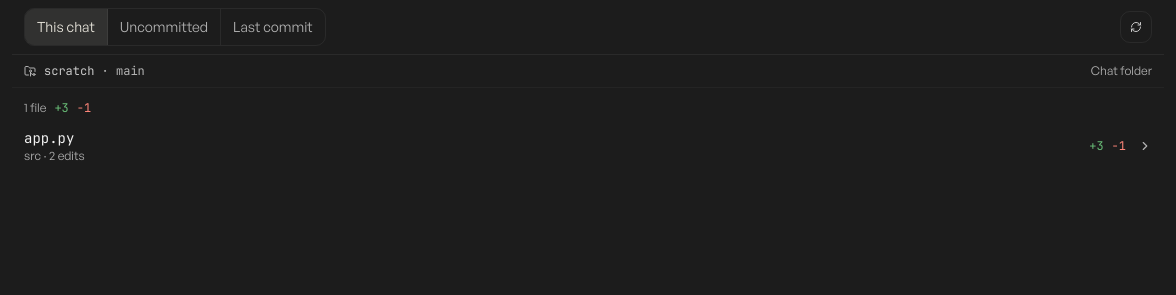
Test case: DiffPanel › tapping a file opens its combined diff; back returns to the list
Click the button with test id "chat-change-row".
click(49, 138)  # box [12,120,1164,172]
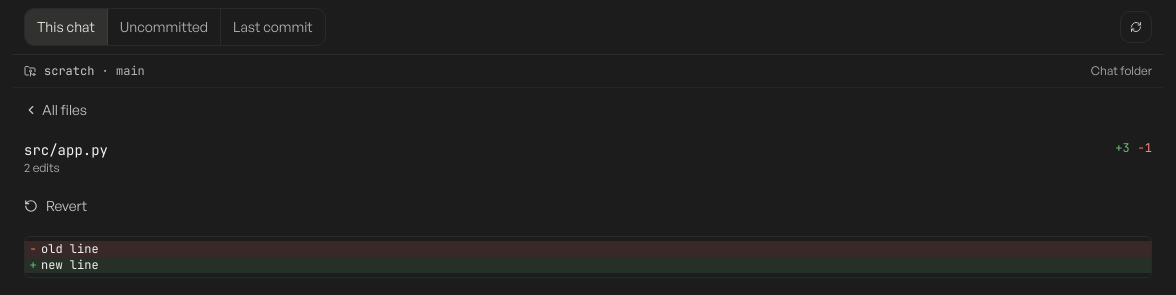
expect the element with test id "tool-diff" is shown: met, box [24,236,1152,278]
expect the 8th text "new line" is shown: met, box [41,257,99,273]
Click the button "All files".
click(56, 110)  # box [12,88,99,132]
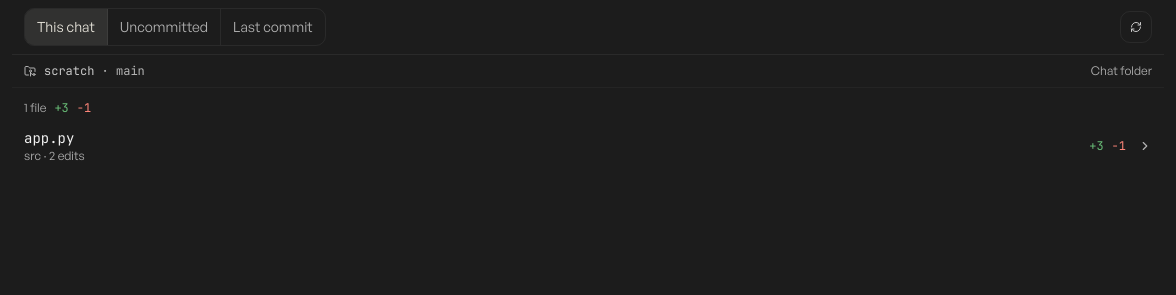
expect the button with test id "chat-change-row" is shown: met, box [12,120,1164,172]
